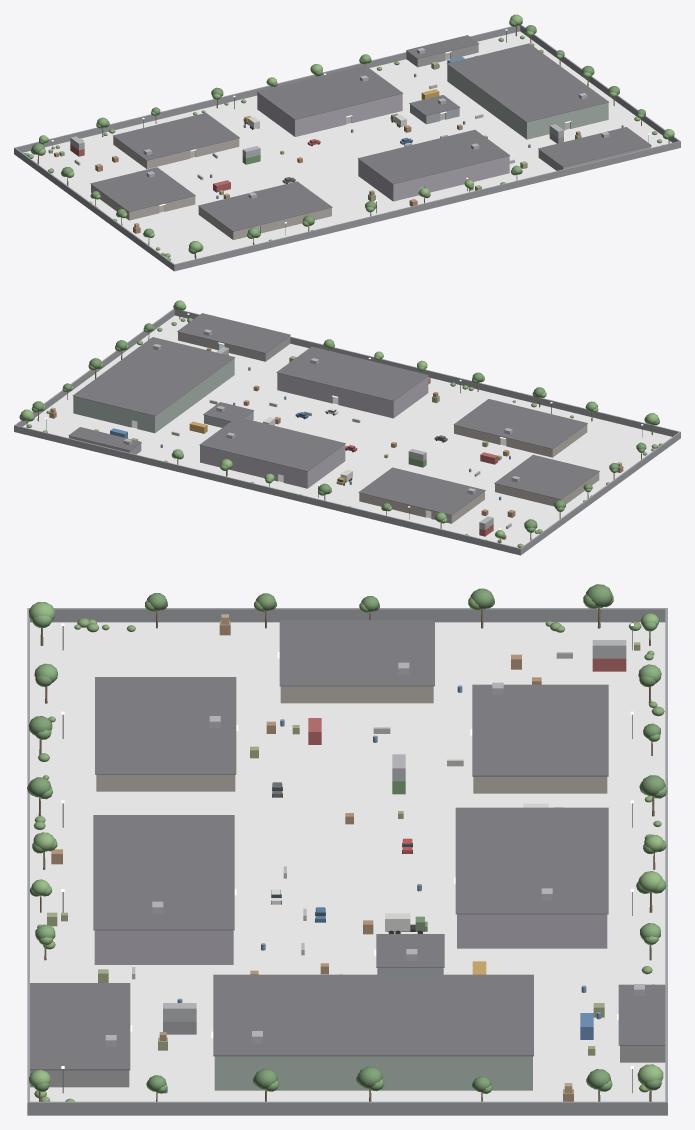
Rendered from compound_map_fixed.glb.
The picture shows the model from 3 angles, top to bottom: view 1: azimuth 30°, elevation 25°; view 2: azimuth 150°, elevation 25°; view 3: azimuth 270°, elevation 25°; orthographic projection. The views are drawn at different scales.
Visible parts, largest first — view 1: CompoundMap, W2_East_wall (×3), W6_South_wall (×3), W4_Warehouse_wall (×3), W5_South_wall, W1_North_wall; view 2: CompoundMap, W6_South_wall (×3), W2_East_wall (×2), W4_Warehouse_wall (×3), W5_South_wall (×2), W1_North_wall, W1_West_wall; view 3: CompoundMap, W2_East_wall, W4_Warehouse_wall, W6_South_wall, W1_West_wall, W5_South_wall, W1_North_wall, Bldg_SE_wall, Bldg_NE_frag_wall.
Part boxes in pixels (<box>): CompoundMap: <box>14,14,680,271</box>; W2_East_wall (×3): <box>447,64,607,139</box>; W6_South_wall (×3): <box>358,156,508,201</box>; W4_Warehouse_wall (×3): <box>257,93,401,136</box>; W5_South_wall: <box>260,208,330,233</box>; W1_North_wall: <box>195,138,238,157</box>; CompoundMap: <box>14,300,680,555</box>; W6_South_wall (×3): <box>278,373,428,418</box>; W2_East_wall (×2): <box>74,358,234,433</box>; W4_Warehouse_wall (×3): <box>201,444,345,488</box>; W5_South_wall (×2): <box>455,425,551,457</box>; W1_North_wall: <box>360,493,426,517</box>; W1_West_wall: <box>496,484,559,506</box>; CompoundMap: <box>27,584,667,1115</box>; W2_East_wall: <box>214,1056,532,1090</box>; W4_Warehouse_wall: <box>457,914,607,948</box>; W6_South_wall: <box>94,930,233,964</box>; W1_West_wall: <box>280,686,433,703</box>; W5_South_wall: <box>96,774,235,791</box>; W1_North_wall: <box>473,776,607,793</box>; Bldg_SE_wall: <box>30,1070,129,1087</box>; Bldg_NE_frag_wall: <box>620,1045,665,1062</box>.
Size of the model in its own units: 212 by 8.76 by 116.
